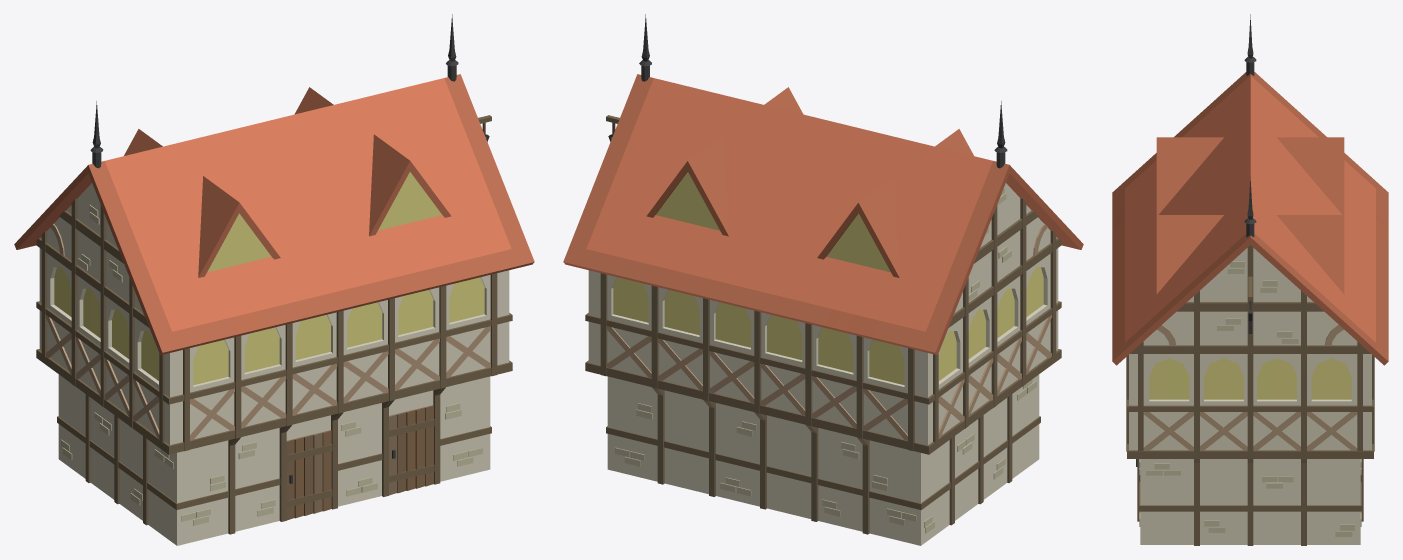
Rendered from House_15.fbx.
3 renders of one model, left to right at view 1: azimuth 30°, elevation 25°; view 2: azimuth 150°, elevation 25°; view 3: azimuth 270°, elevation 25°, orthographic. The views are drawn at different scales.
Parts seen in each view (by area): view 1: House_15; view 2: House_15; view 3: House_15.
Boxes of the visible parts, x1,y1,x2,y2 form: House_15: (14,14,534,545); House_15: (563,14,1083,545); House_15: (1112,14,1388,545).
Bounding box in the file's own units: 178 × 172 × 114.
1 material, 1 textured.
